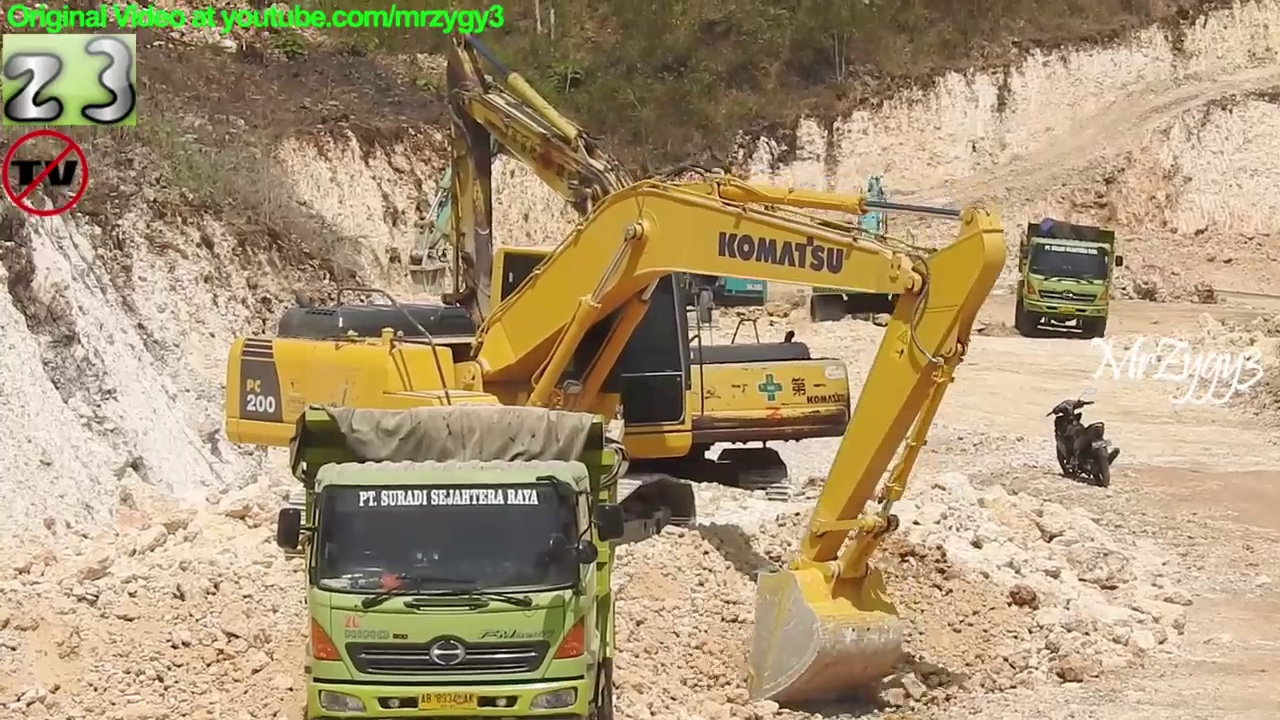excavator: (217, 162, 1012, 709), (416, 12, 862, 521), (400, 68, 778, 336), (803, 164, 937, 330)
truck: (269, 403, 635, 720), (1010, 214, 1129, 343)
